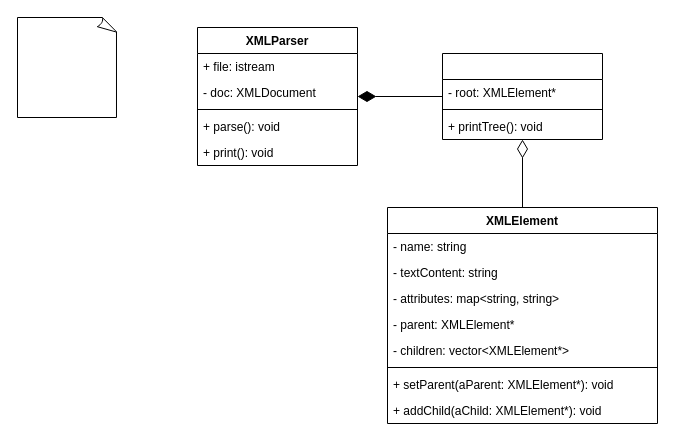
This 675x444 diagram has some shape labels left out. The box of each missing label's shape, as (x1, y1, x2, y2) in pixels:
XML file: (16, 16, 118, 118)
XMLDocument: (442, 52, 602, 140)
